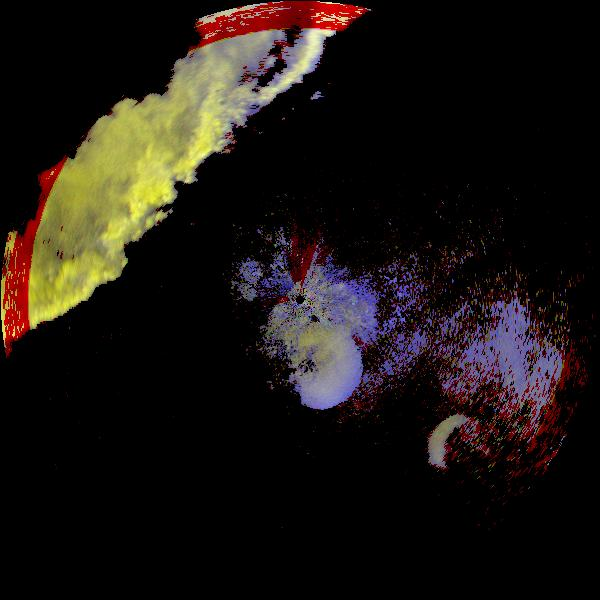roost: (251, 303, 380, 432), (414, 402, 507, 495)
